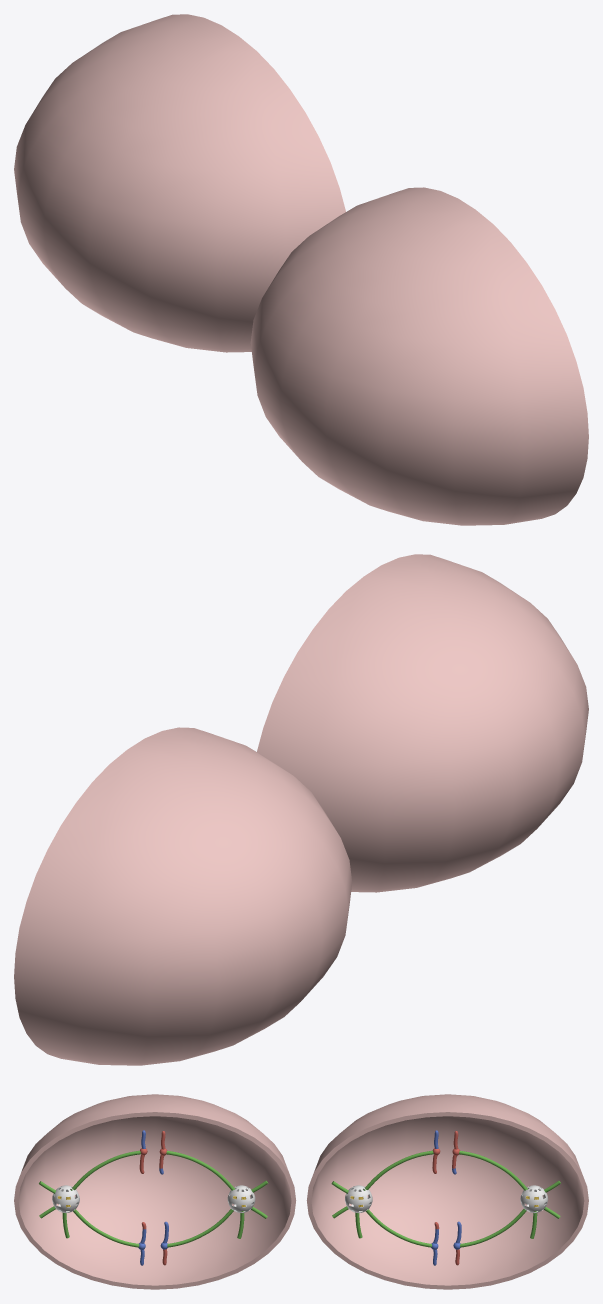
The model's file is giam phan 2 ky giua.glb.
The picture shows the model from 3 angles, top to bottom: view 1: azimuth 30°, elevation 25°; view 2: azimuth 150°, elevation 25°; view 3: azimuth 270°, elevation 25°; orthographic projection. The views are drawn at different scales.
Visible parts, largest first — view 1: pSphere9, pSphere17; view 2: pSphere17, pSphere9; view 3: pSphere9, pSphere17, pSphere13, pSphere20, pSphere14, pSphere19, sweep1, sweep9, sweep11, sweep1_node, sweep2, sweep2_node (+6 smaller).
Part boxes in pixels (bbox=[...]): pSphere9: bbox=[250, 187, 588, 525]; pSphere17: bbox=[14, 14, 345, 352]; pSphere17: bbox=[14, 727, 352, 1065]; pSphere9: bbox=[257, 554, 588, 892]; pSphere9: bbox=[14, 1094, 296, 1289]; pSphere17: bbox=[306, 1094, 588, 1289]; pSphere13: bbox=[227, 1185, 255, 1212]; pSphere20: bbox=[520, 1185, 548, 1213]; pSphere14: bbox=[52, 1185, 79, 1212]; pSphere19: bbox=[345, 1185, 372, 1212]; sweep1: bbox=[71, 1150, 140, 1190]; sweep9: bbox=[363, 1150, 433, 1190]; sweep11: bbox=[459, 1150, 527, 1190]; sweep1_node: bbox=[166, 1150, 234, 1190]; sweep2: bbox=[73, 1209, 139, 1247]; sweep2_node: bbox=[167, 1209, 233, 1247].
Bounding box in the file's own units: 6.27 × 8.8 × 25.81.
